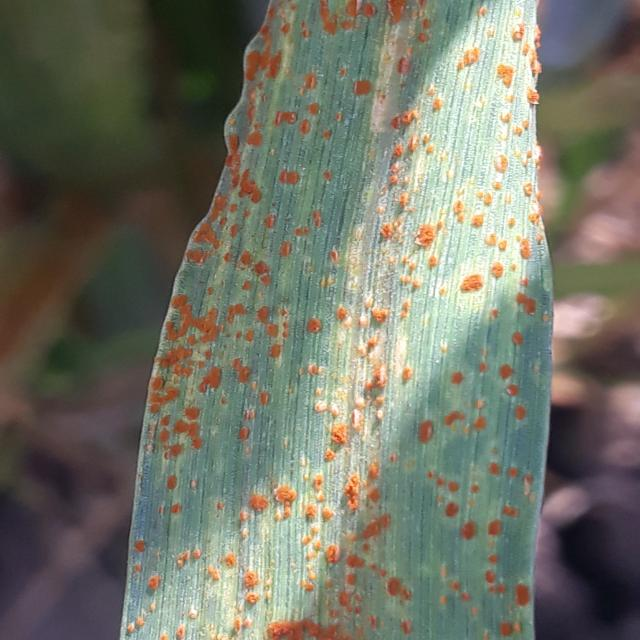orang_rust: (115, 0, 553, 640)
